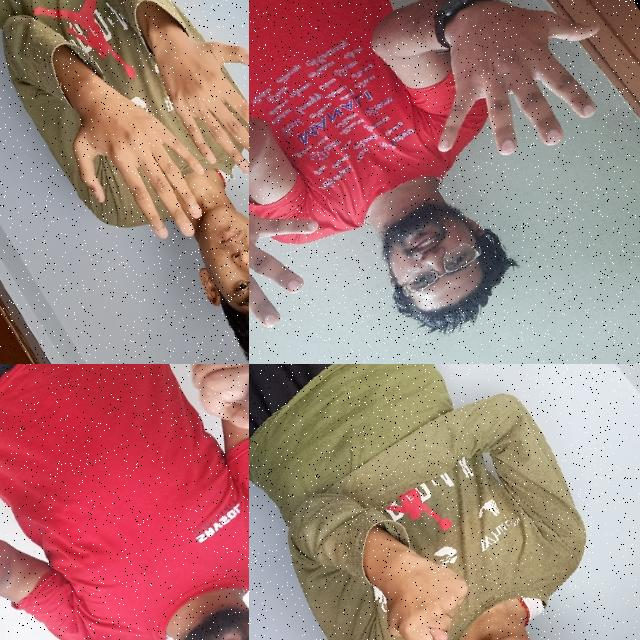Dulya: (337, 510, 499, 640)
Moutza: (378, 0, 640, 204), (35, 48, 238, 274), (249, 122, 360, 364), (121, 0, 249, 206)
Thumbs Up: (161, 364, 249, 455)
